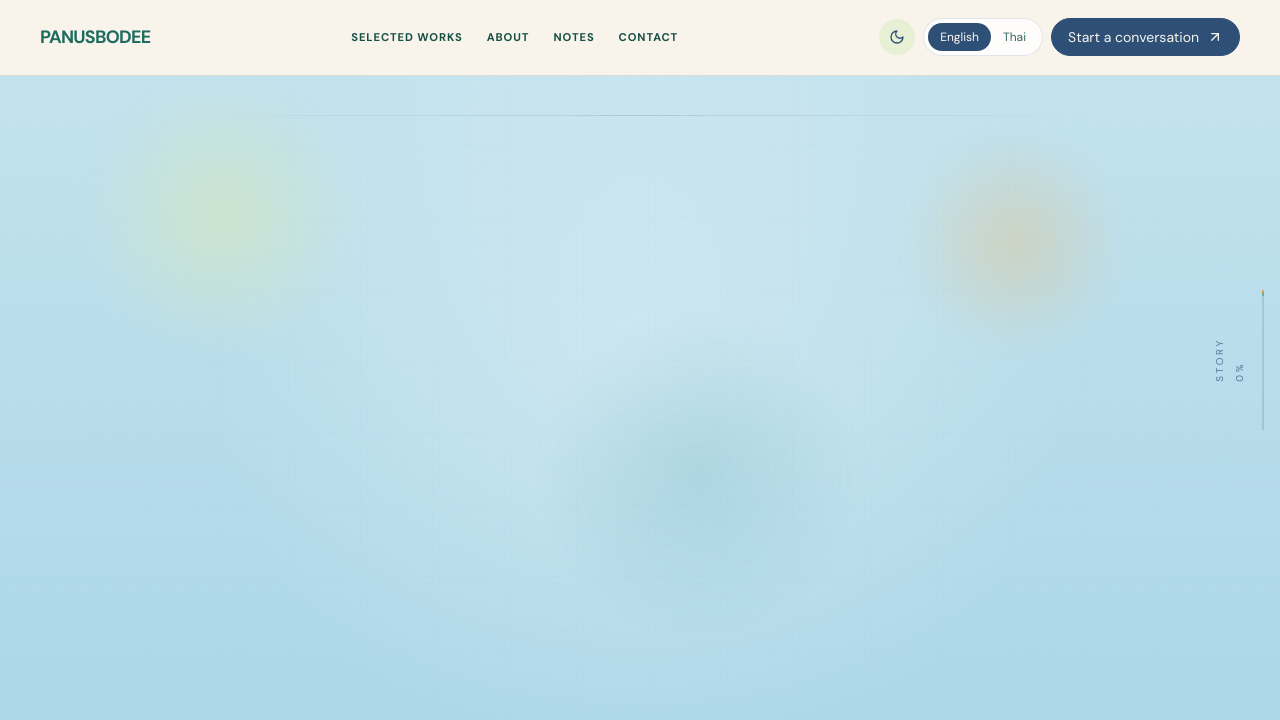
Test: Portfolio app › switches the interface to thai
Click the button "Thai" at (1014, 37), box [991, 23, 1038, 51]
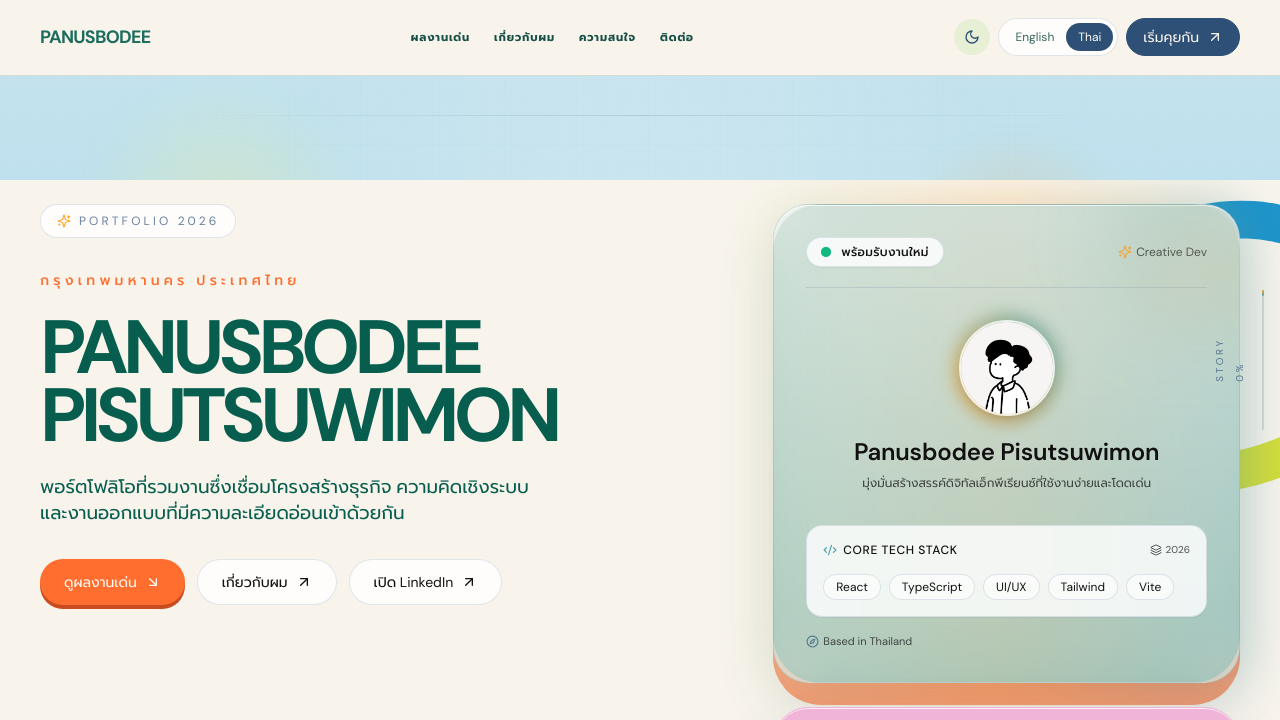
Expected: the heading "Panusbodee Pisutsuwimon" is shown, [40, 298, 557, 464]
Expected: the text "กรุงเทพมหานคร ประเทศไทย" is shown, [40, 271, 300, 289]
Expected: the link "เกี่ยวกับผม" next to "ความสนใจ" is shown, [494, 27, 555, 47]
